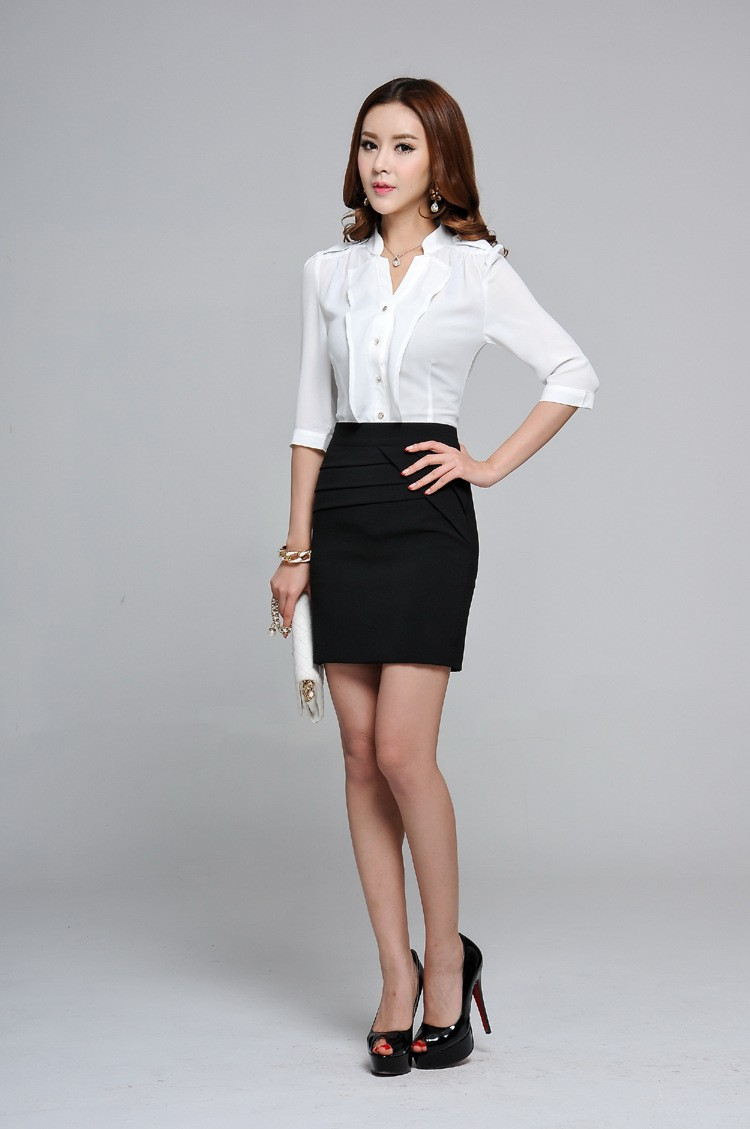F_shirt: (264, 225, 609, 427)
F_tailored skirt: (294, 425, 483, 680)
